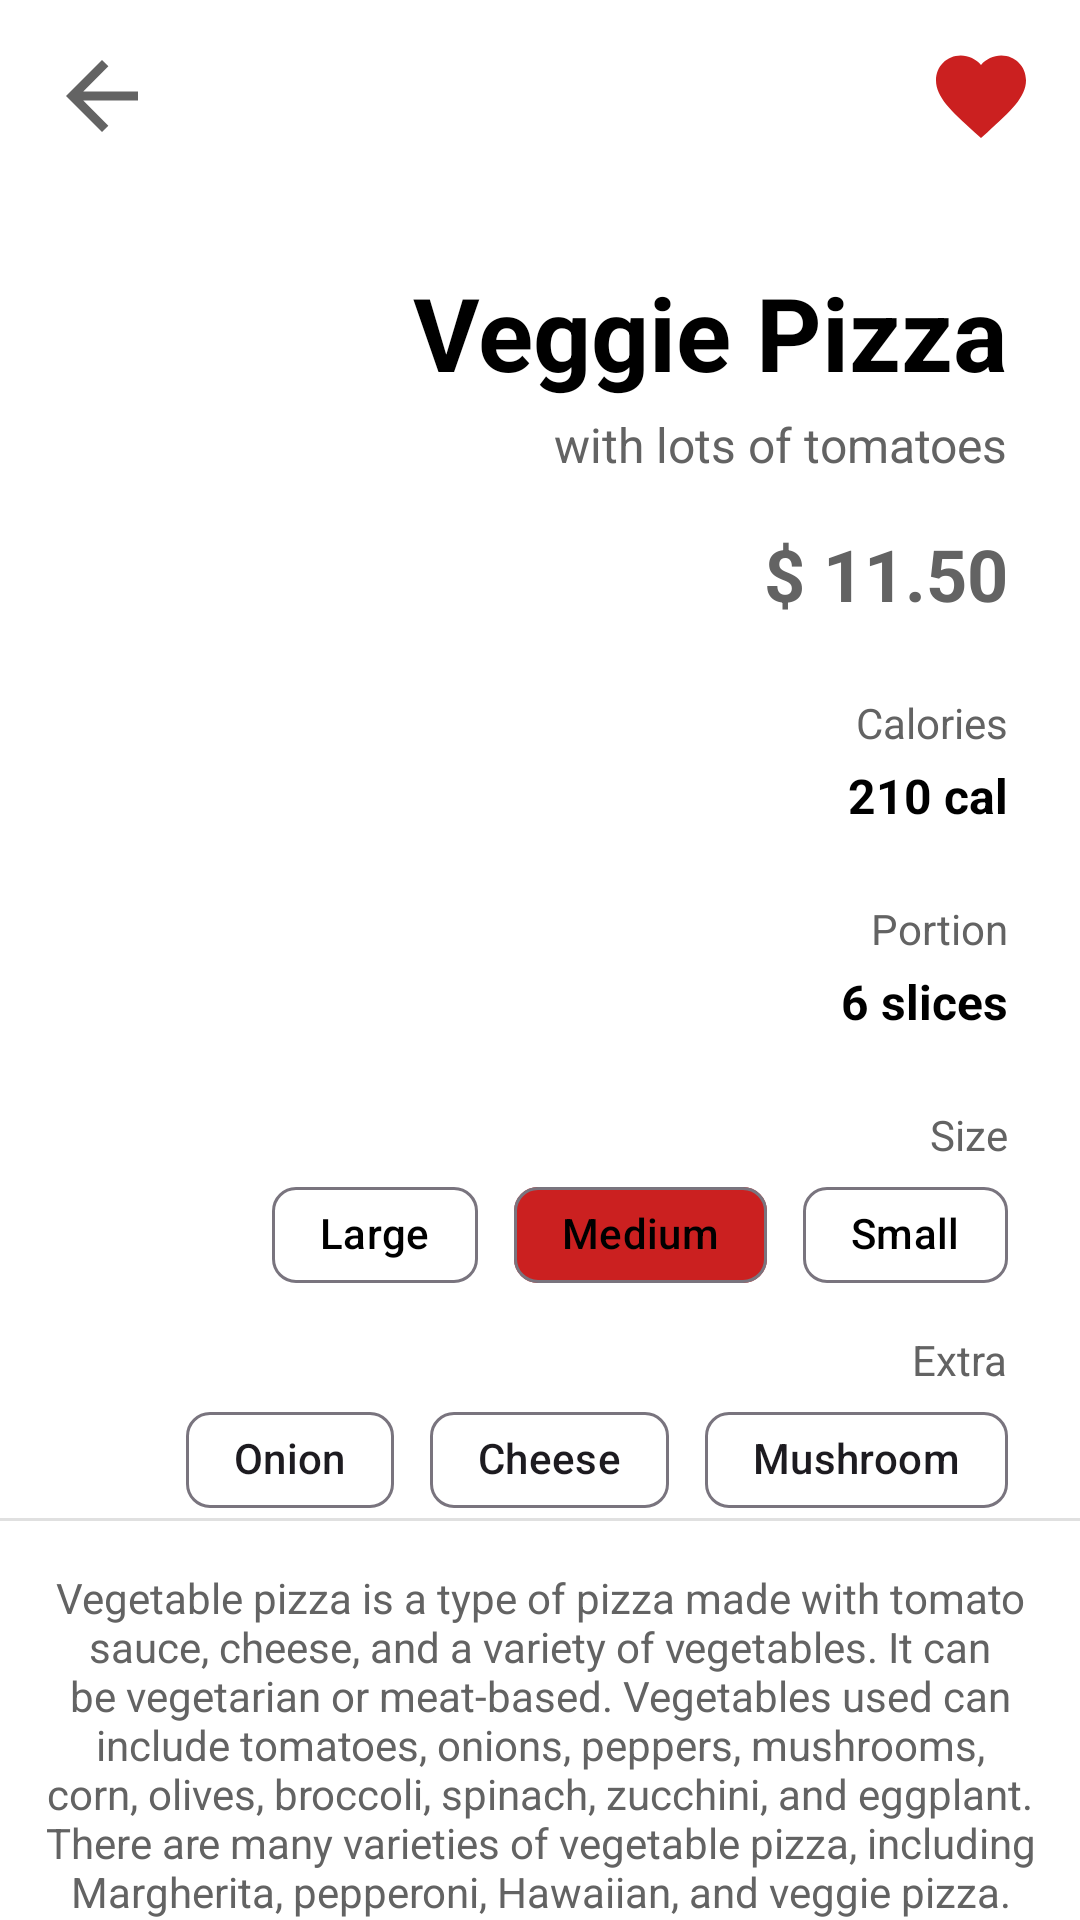

Icon bounding boxes for this 1080*1920 phone screenshot, format (x1, y1, x2, y2):
back arrow: (66, 60, 138, 132)
heart: (936, 55, 1026, 138)
